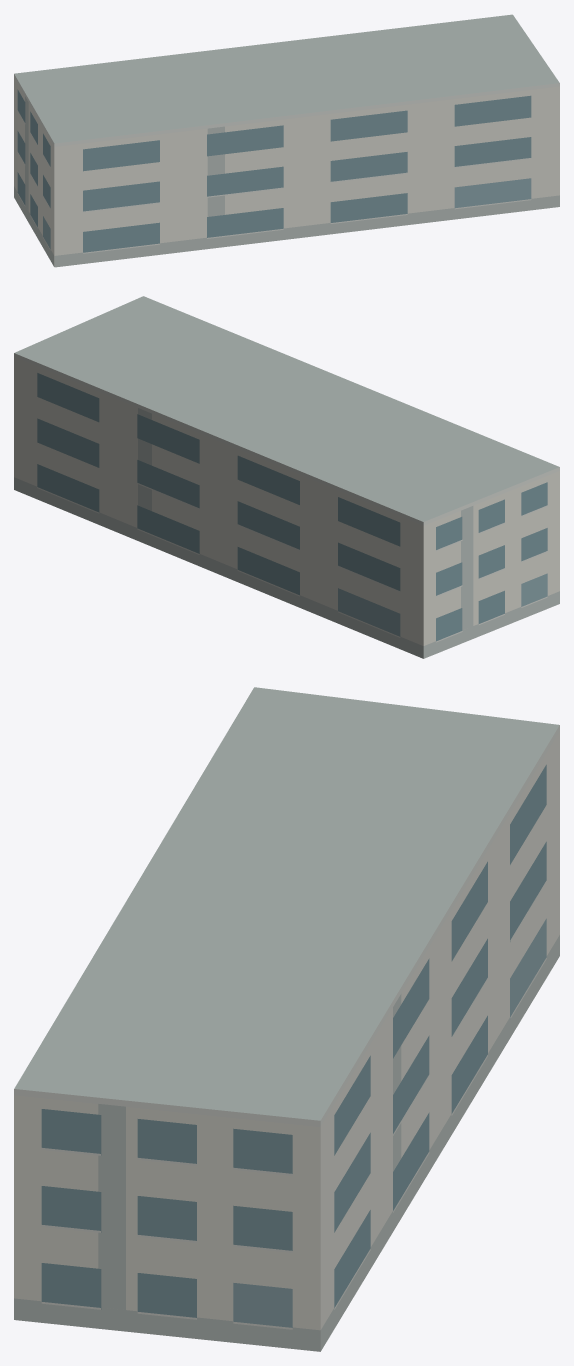
Rendered from survey-upis-32954552.glb.
3 views of the same model, one above another, from view 1: azimuth 30°, elevation 25°; view 2: azimuth 150°, elevation 25°; view 3: azimuth 270°, elevation 25° (orthographic). The views are drawn at different scales.
Visible parts, largest first — view 1: survey-upis-32954552.tmp; view 2: survey-upis-32954552.tmp; view 3: survey-upis-32954552.tmp.
Part boxes in pixels (x1,y1,x2,y2): survey-upis-32954552.tmp: (14, 14, 559, 267); survey-upis-32954552.tmp: (14, 296, 559, 658); survey-upis-32954552.tmp: (14, 687, 559, 1351).
Size of the model in its own units: 36.84 by 9.15 by 19.6.
